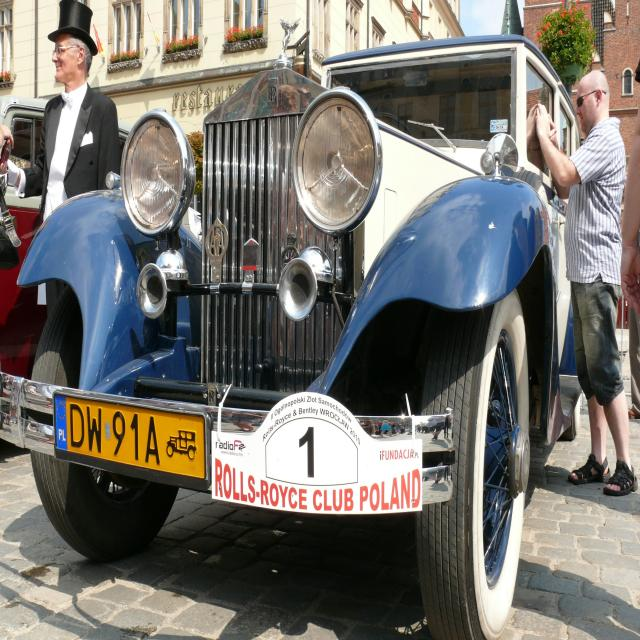pl_license_plate: (54, 394, 205, 482)
